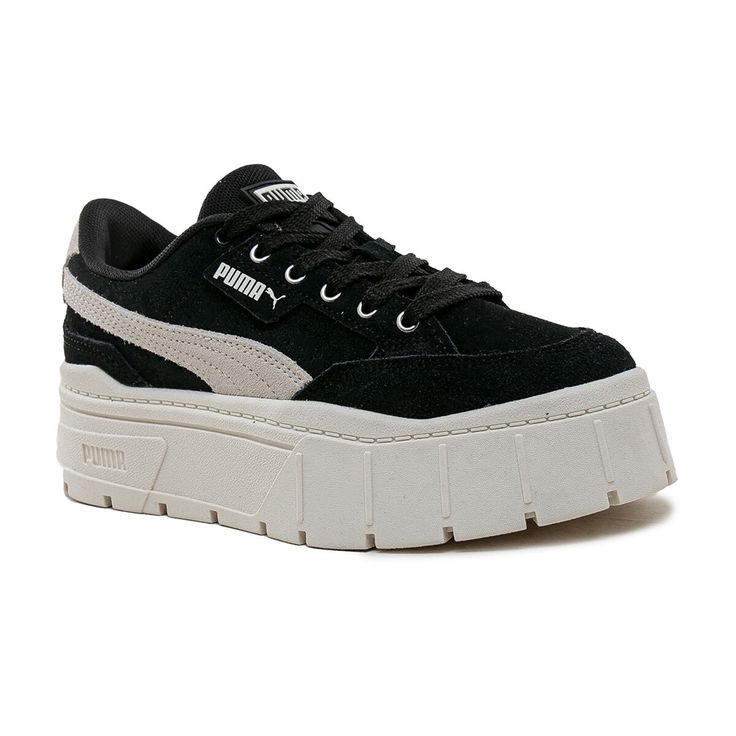gamuza: (61, 163, 636, 420)
